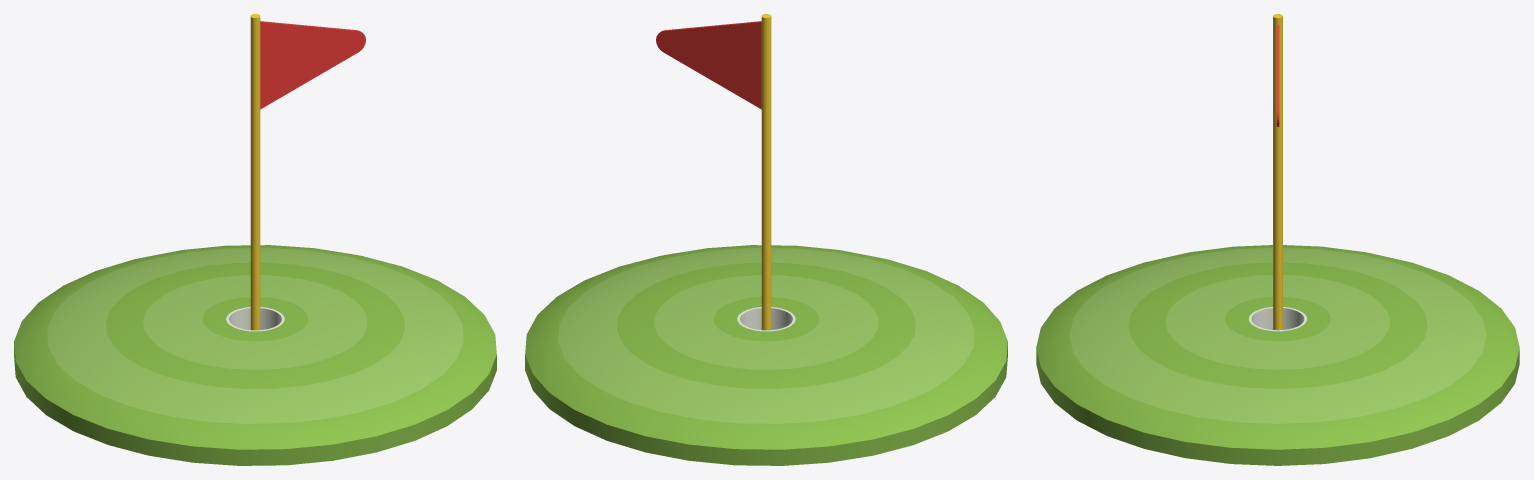
The model's file is flag_in_hole.fbx.
3 renders of one model, left to right at view 1: azimuth 30°, elevation 25°; view 2: azimuth 150°, elevation 25°; view 3: azimuth 270°, elevation 25°, orthographic.
Visible parts, largest first — view 1: Cylinder.477; view 2: Cylinder.477; view 3: Cylinder.477.
Boxes of the visible parts, x1,y1,x2,y2 form: Cylinder.477: [14, 14, 496, 465]; Cylinder.477: [525, 14, 1007, 465]; Cylinder.477: [1036, 14, 1519, 465].
Size of the model in its own units: 240 by 191 by 240.
Materials: 1 (1 with a texture image).
